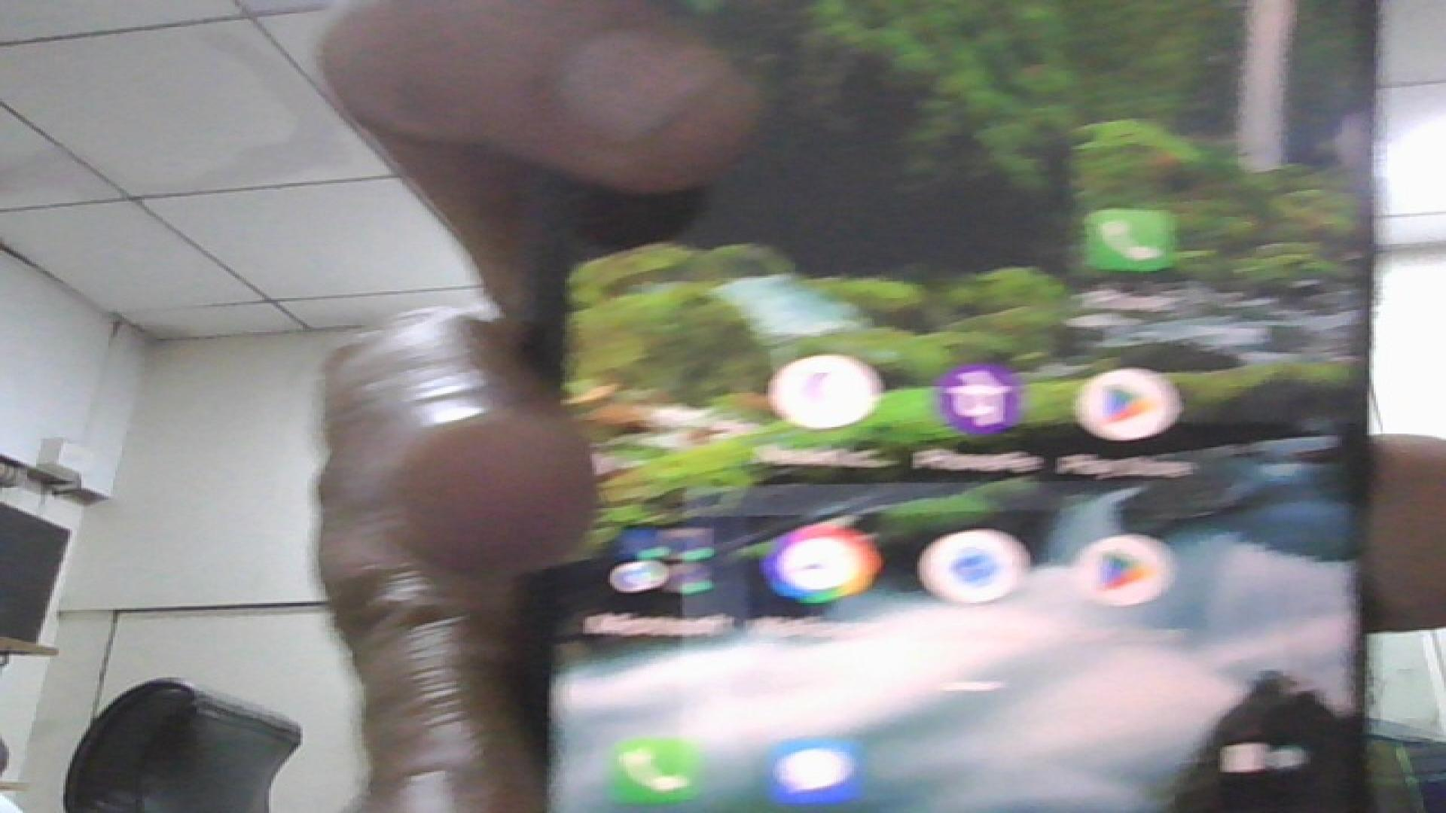phone: (529, 0, 1384, 813)
